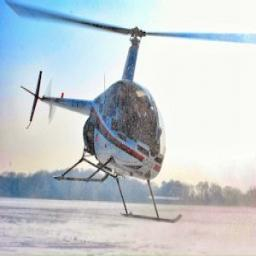helicopter: (10, 3, 239, 224)
